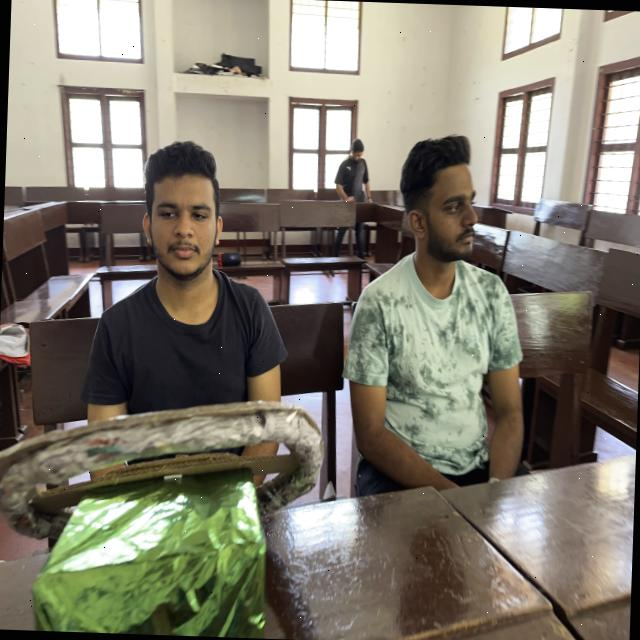Helmet: (74, 280, 288, 500), (342, 252, 530, 490)
